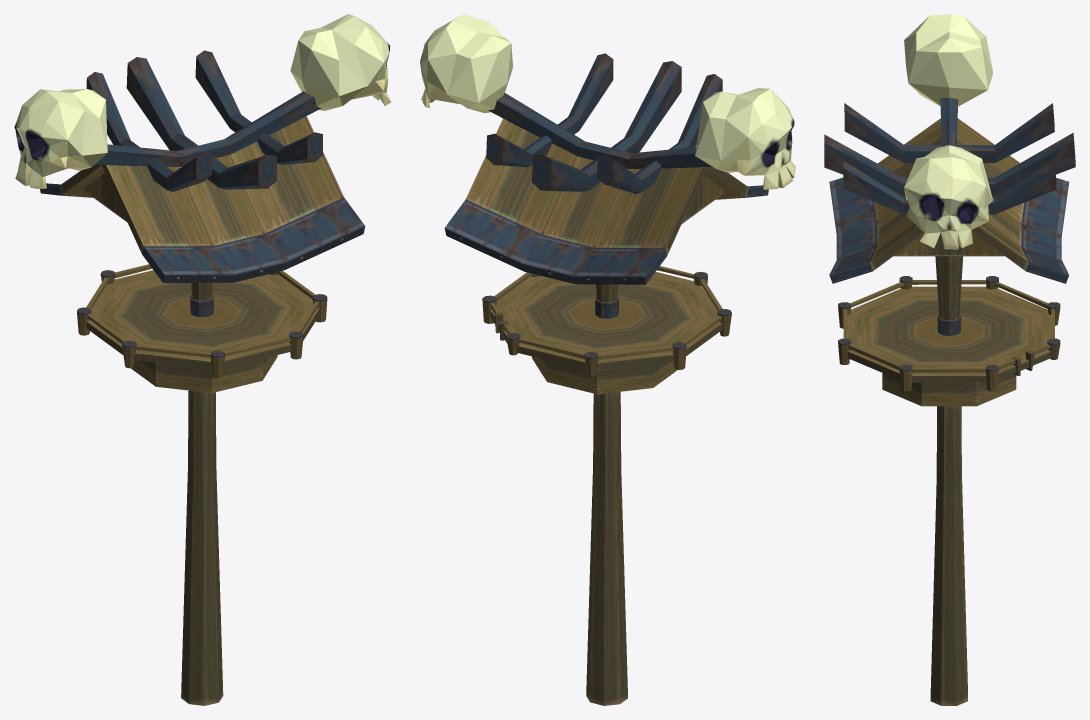
The model's file is Sea Platform.obj.
3 renders of one model, left to right at view 1: azimuth 30°, elevation 25°; view 2: azimuth 150°, elevation 25°; view 3: azimuth 270°, elevation 25°, orthographic. The views are drawn at different scales.
Parts seen in each view (by area): view 1: n0b0; view 2: n0b0; view 3: n0b0.
Part boxes in pixels (left/top/right/bottom): n0b0: left=14, top=14, right=391, bottom=705; n0b0: left=420, top=14, right=795, bottom=705; n0b0: left=824, top=14, right=1075, bottom=705.
Size of the model in its own units: 2.72 by 4.59 by 1.71.
1 material, 1 textured.
